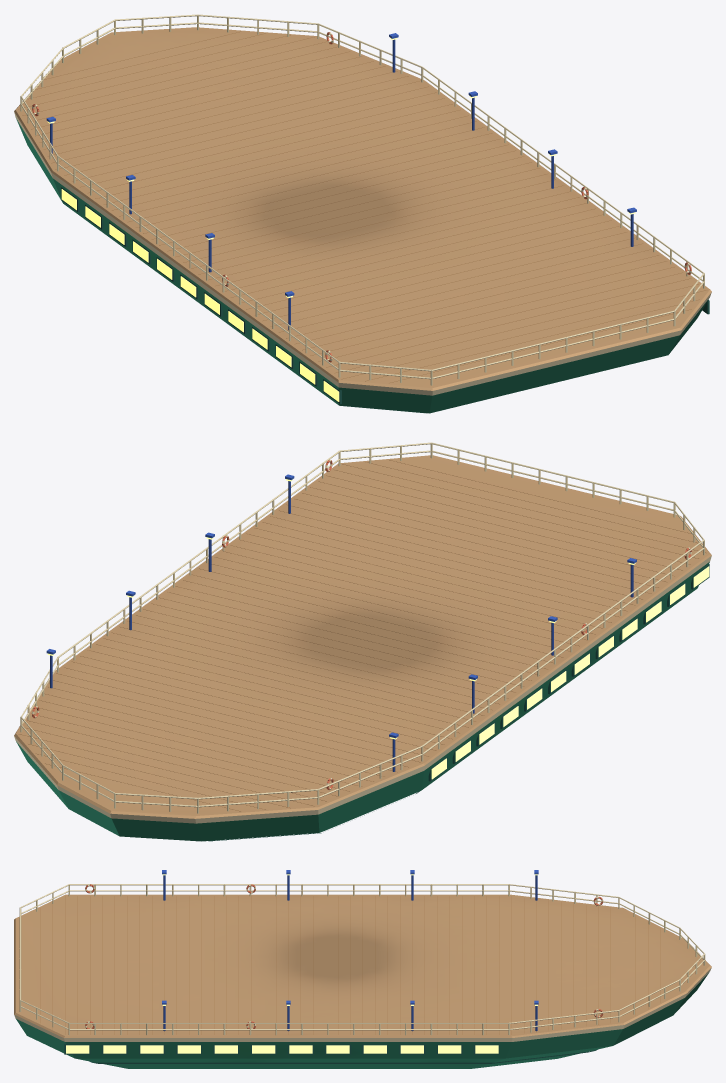
The model's file is deck.glb.
The picture shows the model from 3 angles, top to bottom: view 1: azimuth 30°, elevation 25°; view 2: azimuth 150°, elevation 25°; view 3: azimuth 270°, elevation 25°; orthographic projection. The views are drawn at different scales.
Visible parts, largest first — view 1: deck; view 2: deck; view 3: deck.
Boxes of the visible parts, x1,y1,x2,y2 form: deck: (14, 14, 711, 413); deck: (14, 442, 711, 841); deck: (14, 870, 711, 1068).
Size of the model in its own units: 27.14 by 6.92 by 56.28.
